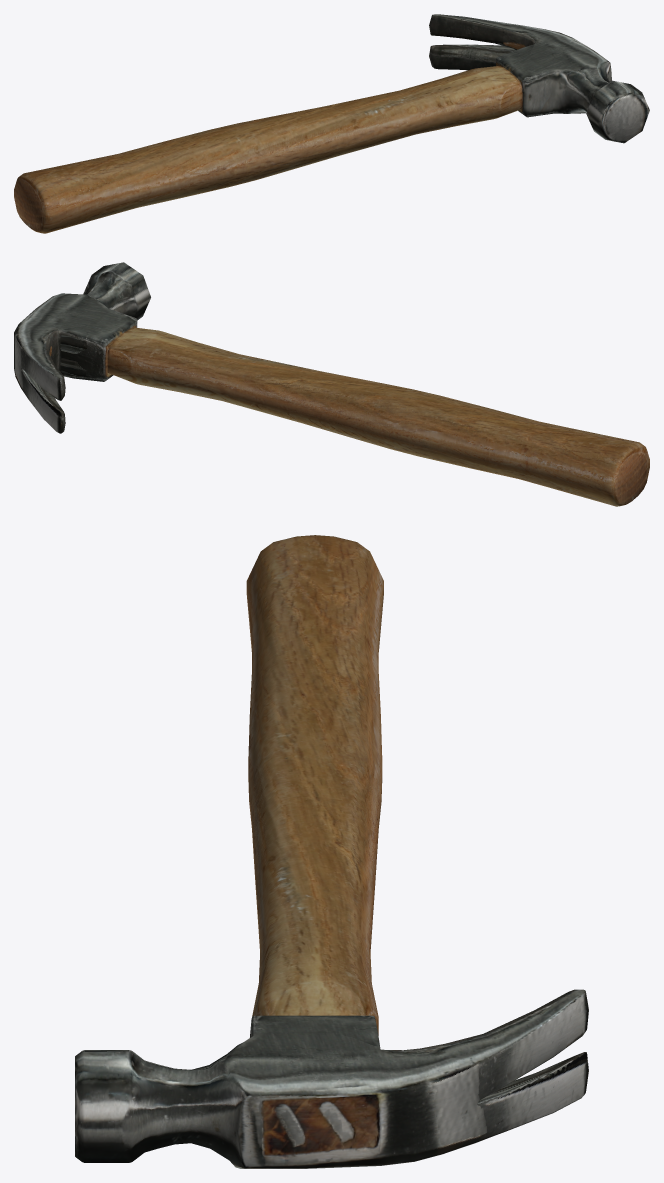
The model's file is 048_hammer.dae.
3 renders of one model, top to bottom at view 1: azimuth 30°, elevation 25°; view 2: azimuth 150°, elevation 25°; view 3: azimuth 270°, elevation 25°, orthographic. The views are drawn at different scales.
Parts seen in each view (by area): view 1: 048_hammer; view 2: 048_hammer; view 3: 048_hammer.
Part boxes in pixels (left/top/right/bottom): 048_hammer: left=14, top=14, right=649, bottom=233; 048_hammer: left=14, top=262, right=649, bottom=506; 048_hammer: left=75, top=535, right=588, bottom=1168.
Bounding box in the file's own units: 0.3292 × 0.1301 × 0.0304.
1 material, 1 textured.
